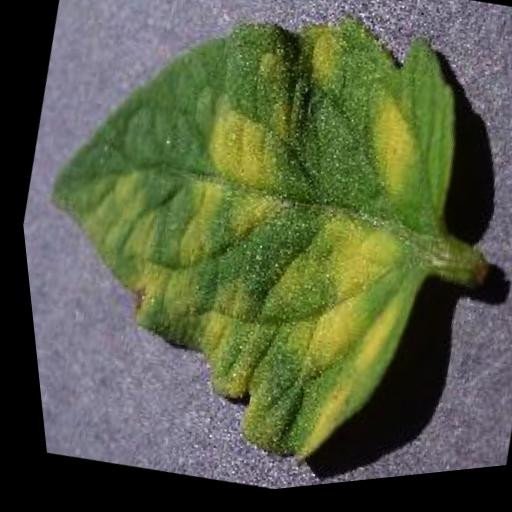Leaf Mold: (0, 0, 509, 512)
